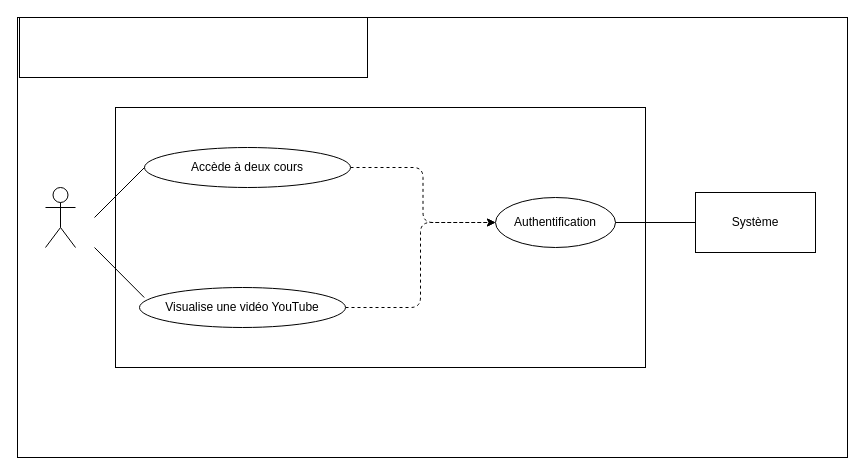
Some shapes in this 865 by 475 pixel diagram are drawn without their labels. The box of each missing label's shape, as (x1, y1, x2, y2) in pixels:
Diagramme des cas d'utilisations: (18, 16, 368, 78)
Utilisateur: (44, 186, 76, 248)
